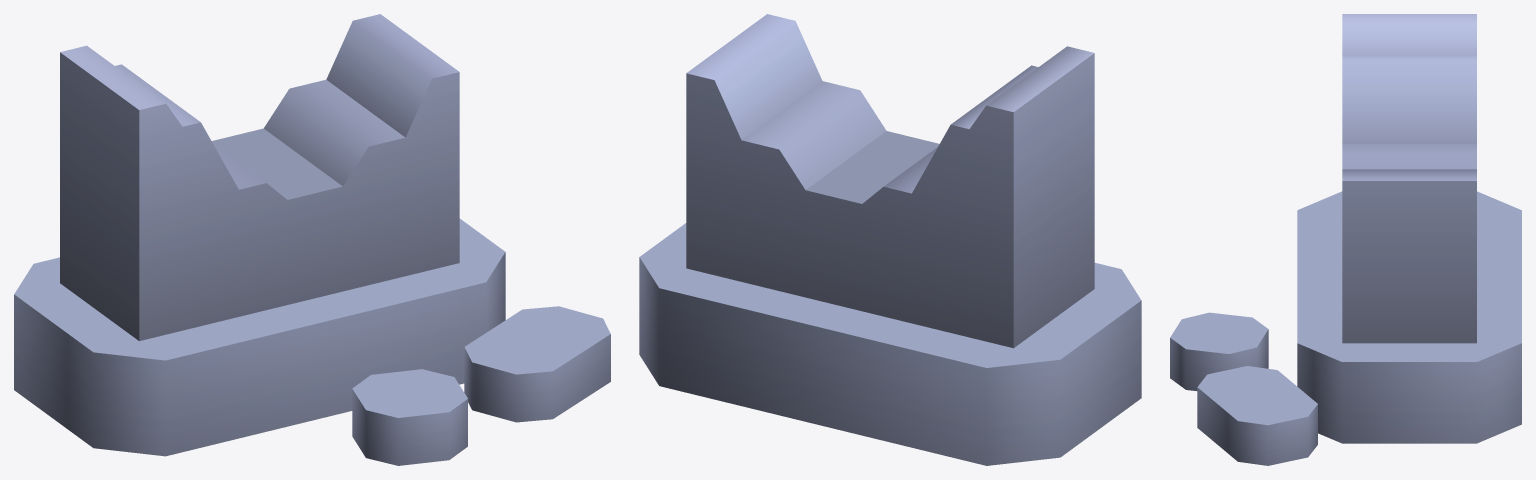
The model's file is gravestone-broken.glb.
The picture shows the model from 3 angles, left to right: view 1: azimuth 30°, elevation 25°; view 2: azimuth 150°, elevation 25°; view 3: azimuth 270°, elevation 25°; orthographic projection. The views are drawn at different scales.
Visible parts, largest first — view 1: gravestone-broken; view 2: gravestone-broken; view 3: gravestone-broken.
Part boxes in pixels (x1,y1,x2,y2): gravestone-broken: [14, 14, 610, 465]; gravestone-broken: [639, 14, 1141, 465]; gravestone-broken: [1170, 14, 1521, 465].
Bounding box in the file's own units: 0.509 × 0.3411 × 0.3915.
Materials: 1 (1 with a texture image).
